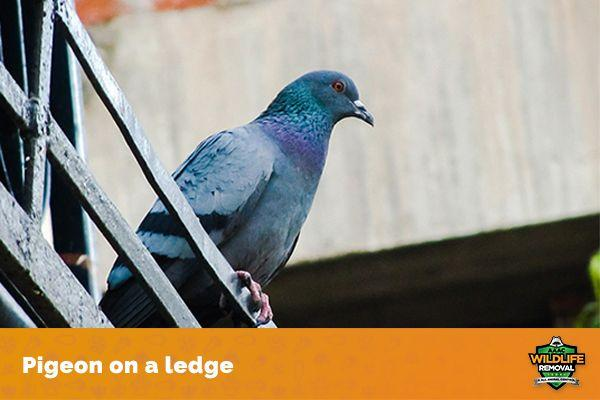Flying Rat: (103, 55, 376, 317)
